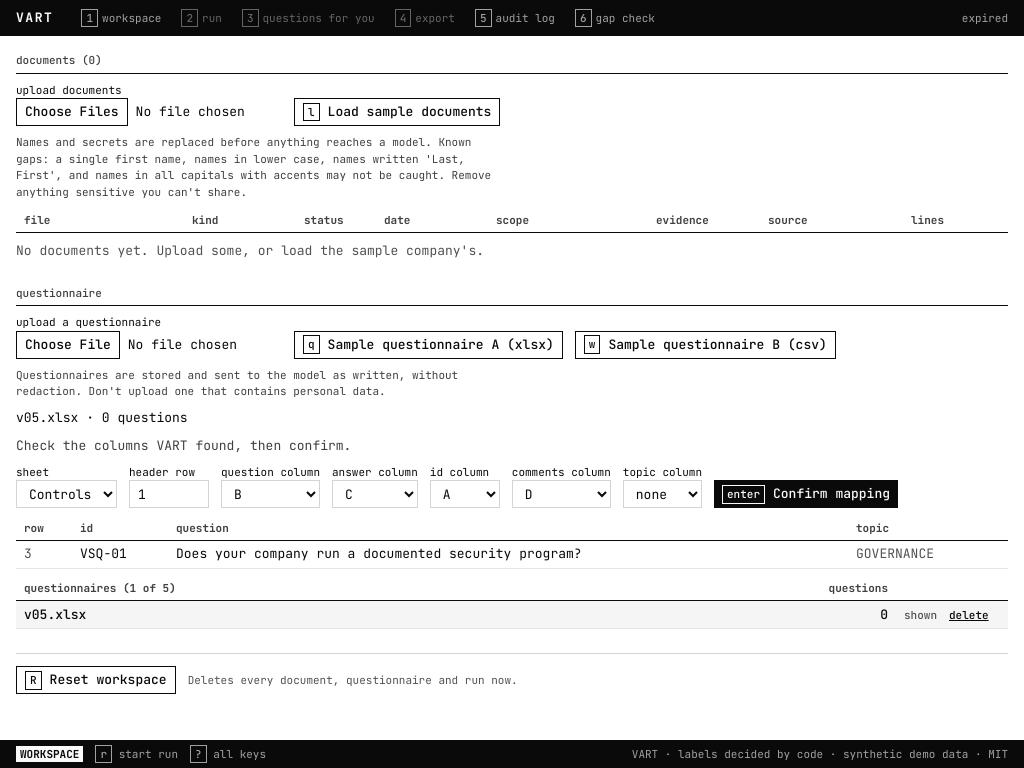
Scenario: Workspace › the header row accepts a cleared field and refuses rows past 1000 before sending
Replace the text in the number field labelled "header row" with "3" at (169, 494), box x1=129 y1=480 x2=209 y2=508
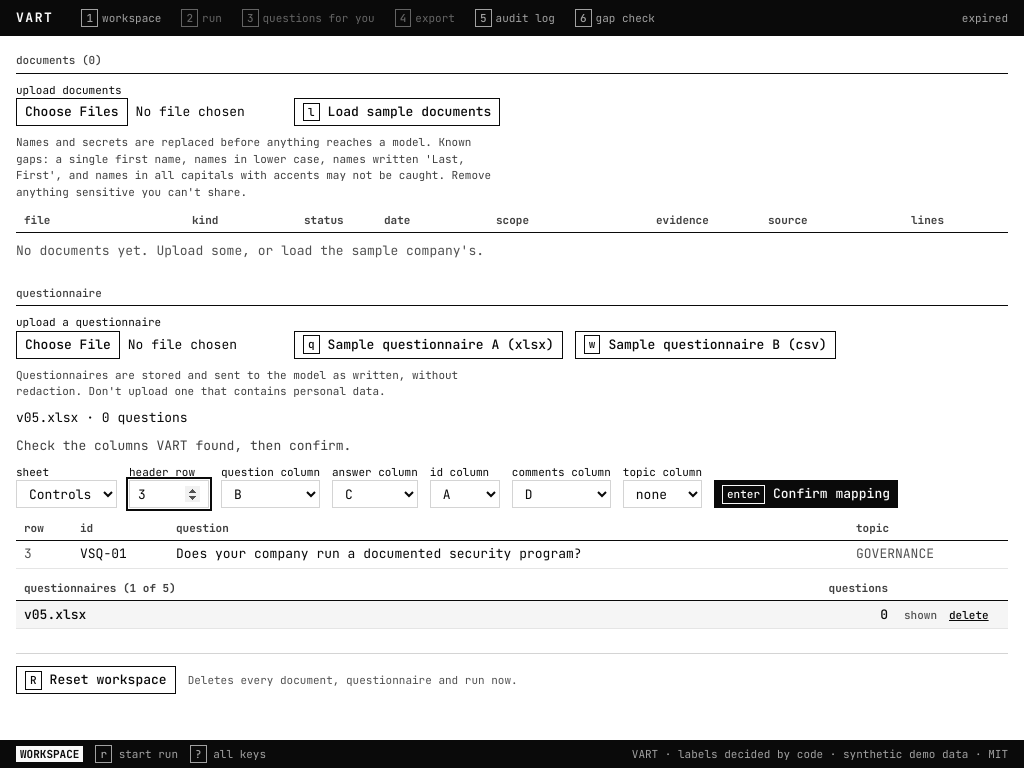
Click the button "enter Confirm mapping".
click(806, 494)  # box x1=714 y1=480 x2=898 y2=508
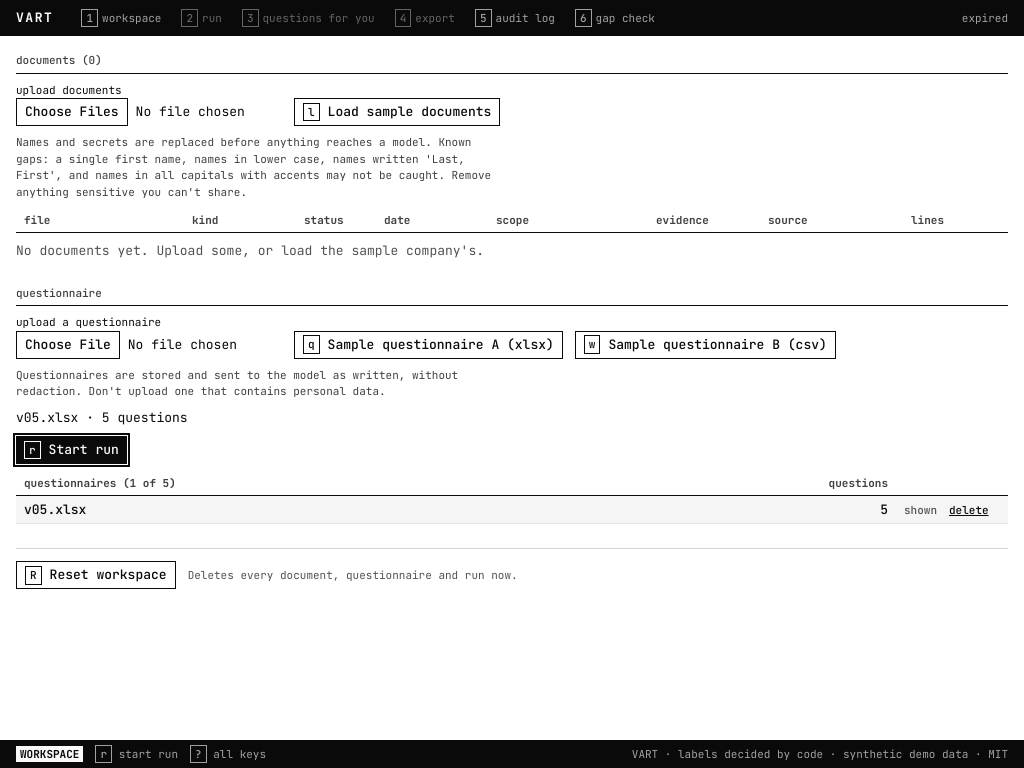
Check: the text "5 questions" is shown, box x1=102 y1=409 x2=188 y2=426
